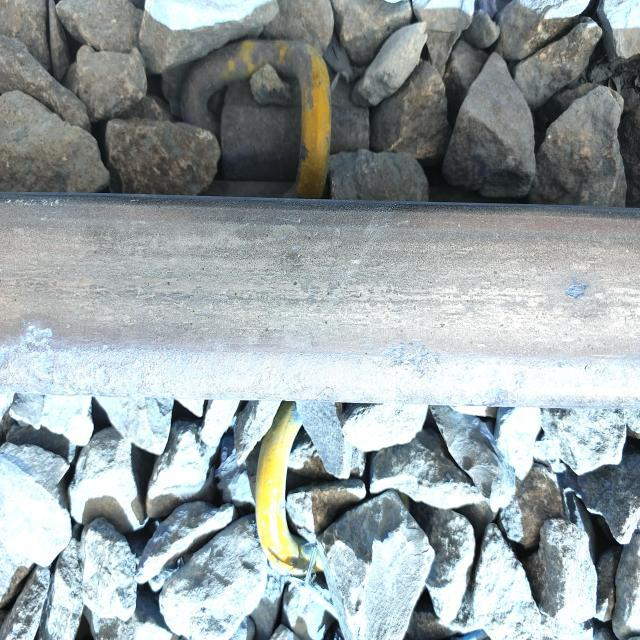Good Fasteners: (216, 418, 406, 612), (171, 27, 389, 191)
